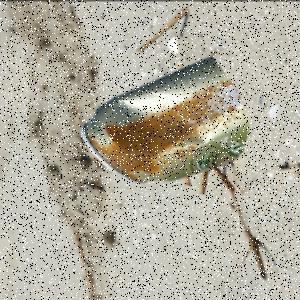Can: (81, 55, 249, 185)
